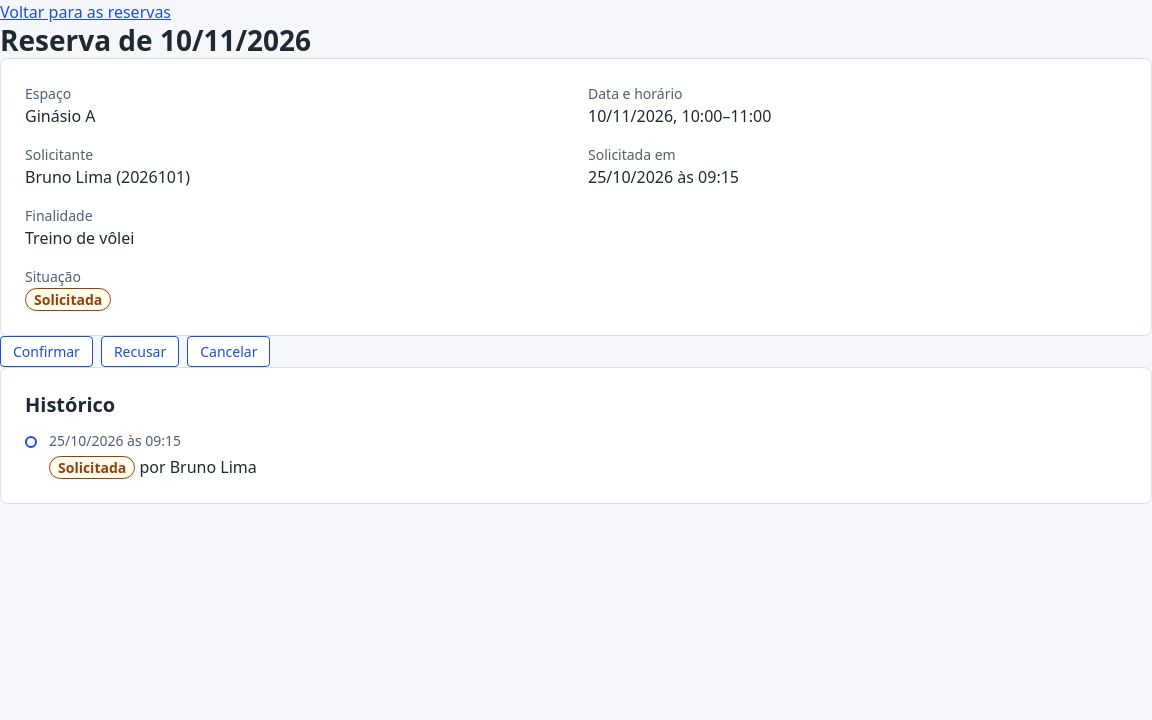
PaginaReserva › uma ação concluída recarrega a reserva e o histórico e põe o foco no título
Click the button with aria-label "Confirmar a reserva": (46, 351) [0,336,93,367]
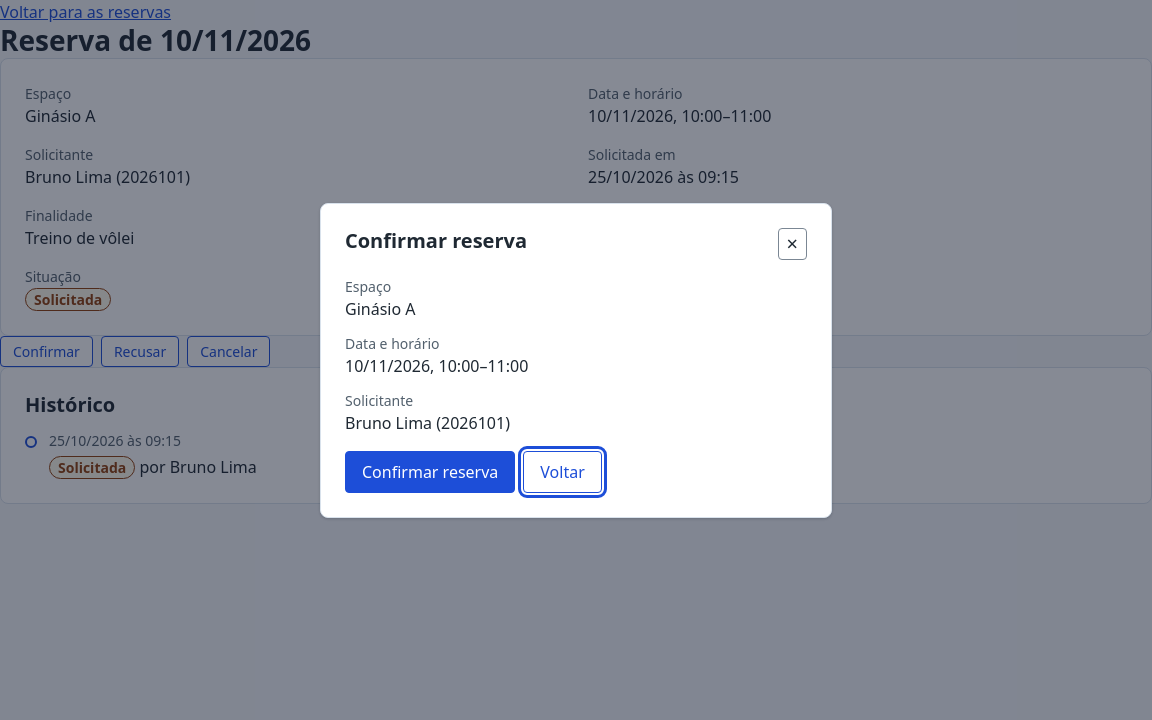
Click the button "Confirmar reserva": (430, 472) [345,450,515,492]
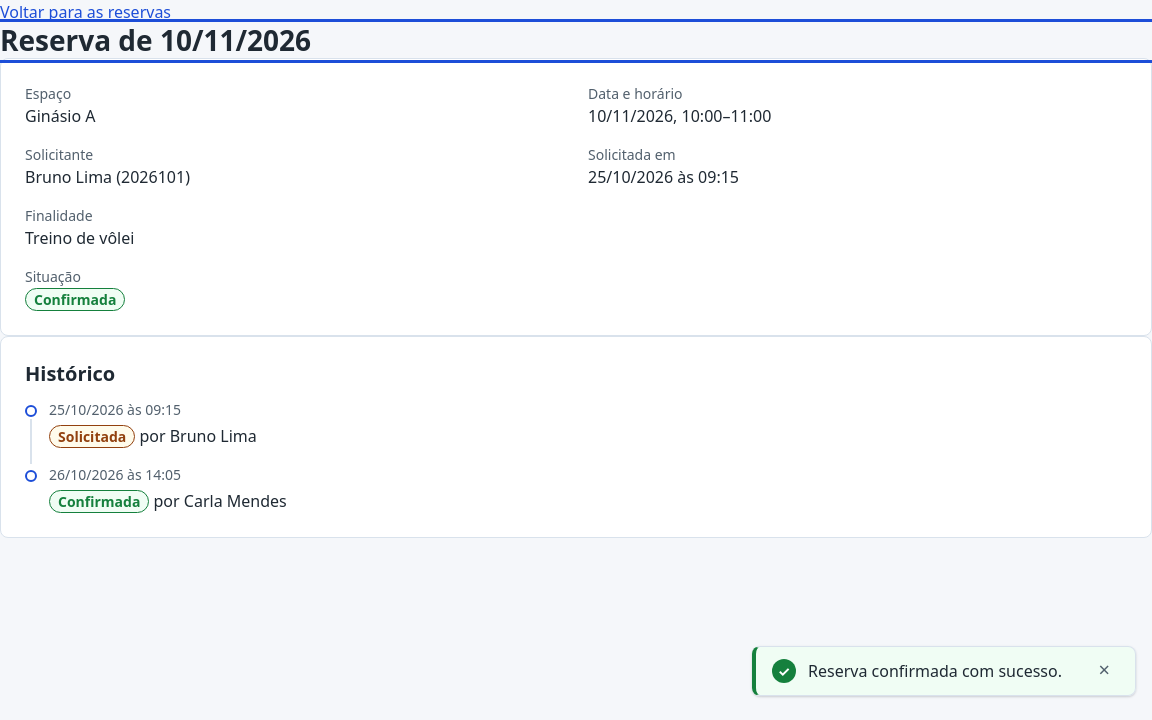
Result: the text "Reserva confirmada com sucesso." is shown at [808,659,1078,683]
Result: the text "por Carla Mendes" is shown at [49,490,287,513]
Result: the element showing "Confirmada" is shown at [25,288,125,311]
